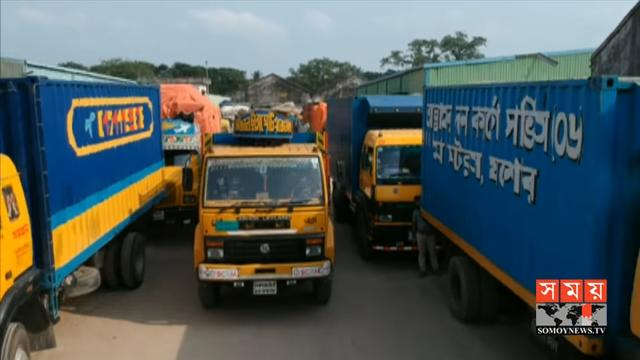truck: (426, 79, 640, 360), (0, 76, 163, 360), (189, 102, 337, 298), (337, 88, 426, 270), (159, 90, 211, 254)
